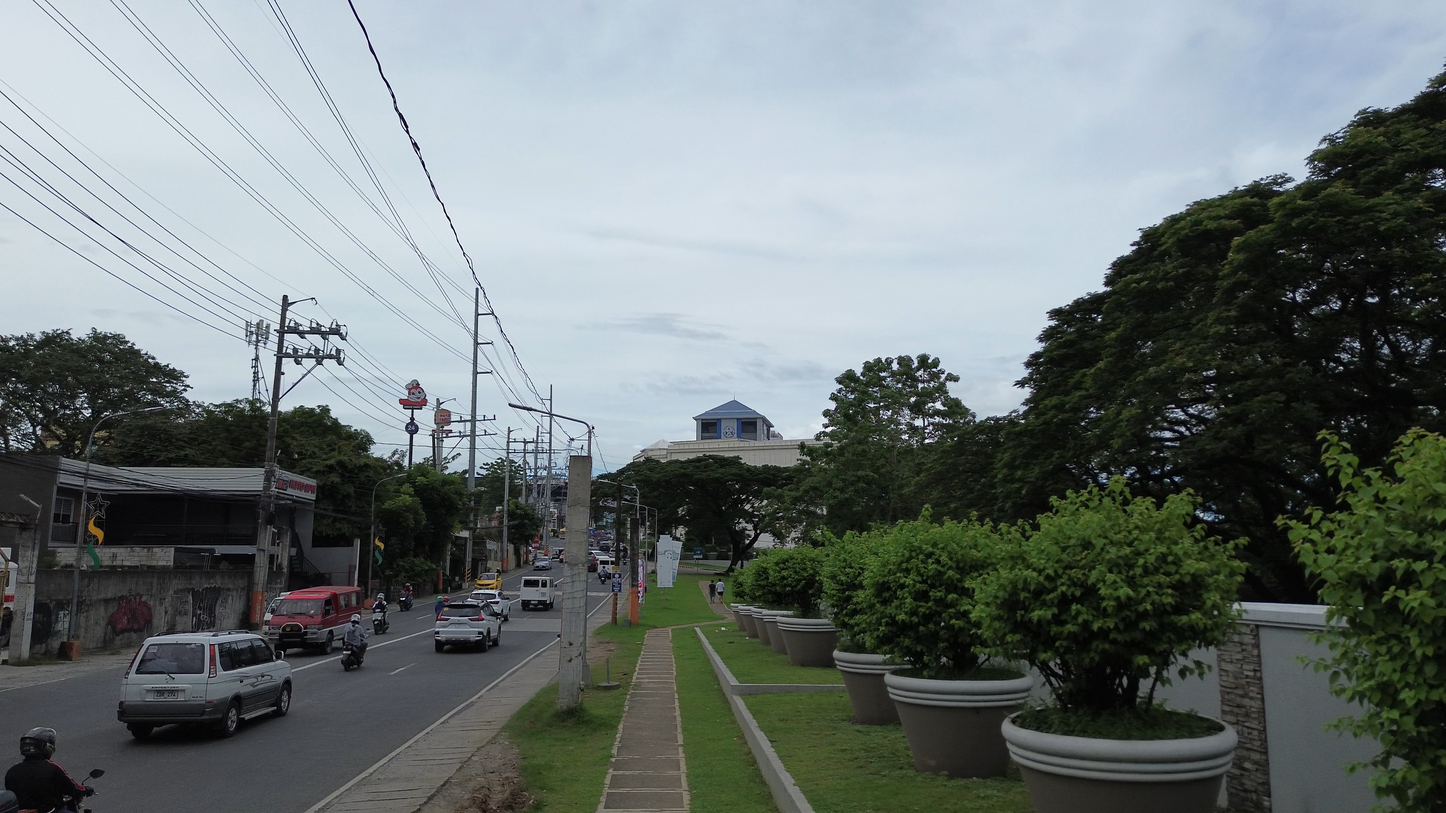motorcycle: (52, 796, 91, 813), (341, 642, 363, 671), (372, 606, 389, 634), (399, 594, 412, 611)
vehicle: (117, 630, 292, 738), (263, 586, 363, 656), (434, 601, 500, 652), (468, 589, 510, 622), (519, 577, 553, 611), (263, 592, 289, 624), (371, 604, 389, 634), (474, 572, 502, 590), (532, 555, 552, 570), (398, 594, 412, 612), (587, 553, 599, 571)
